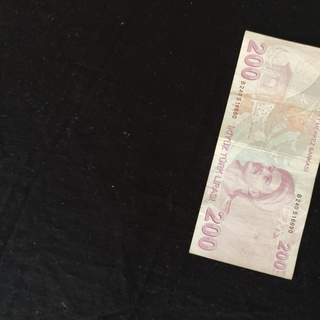200TLBack: (188, 29, 320, 279)
